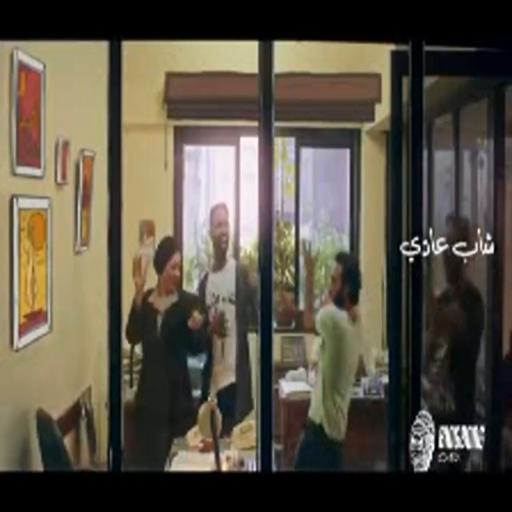nao-violencia: (120, 182, 255, 471)
